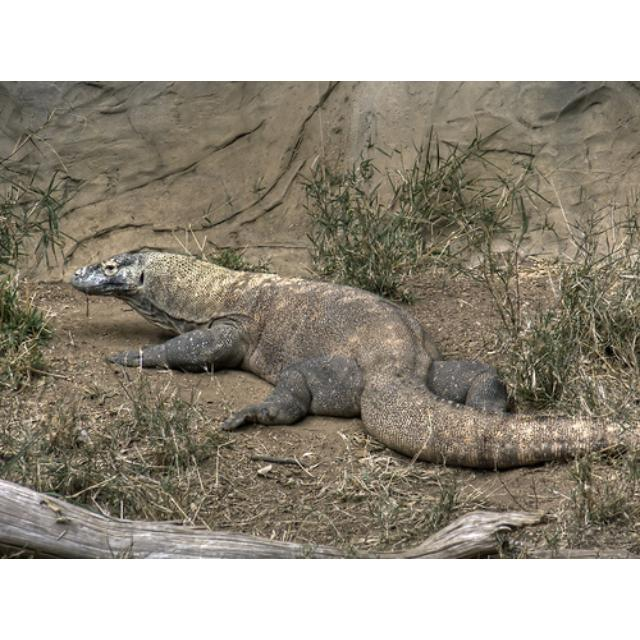KomodoDragon: (65, 242, 638, 473)
